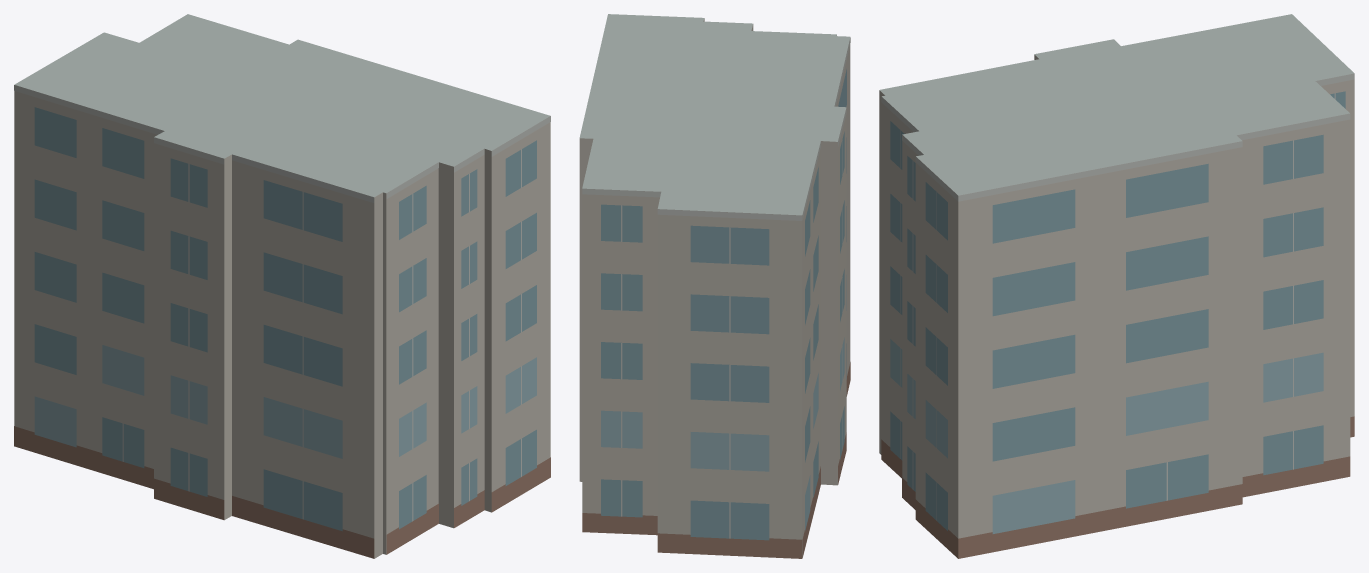
The model's file is survey-upis-32593642.glb.
3 views of the same model, side by side, from view 1: azimuth 30°, elevation 25°; view 2: azimuth 150°, elevation 25°; view 3: azimuth 270°, elevation 25° (orthographic). The views are drawn at different scales.
Parts seen in each view (by area): view 1: survey-upis-32593642.tmp; view 2: survey-upis-32593642.tmp; view 3: survey-upis-32593642.tmp.
Boxes of the visible parts, box(x1,y1,x2,y2) form: survey-upis-32593642.tmp: box(14, 14, 550, 558); survey-upis-32593642.tmp: box(579, 14, 850, 558); survey-upis-32593642.tmp: box(879, 14, 1354, 558).
Bounding box in the file's own units: 15.83 × 14.75 × 17.51.
